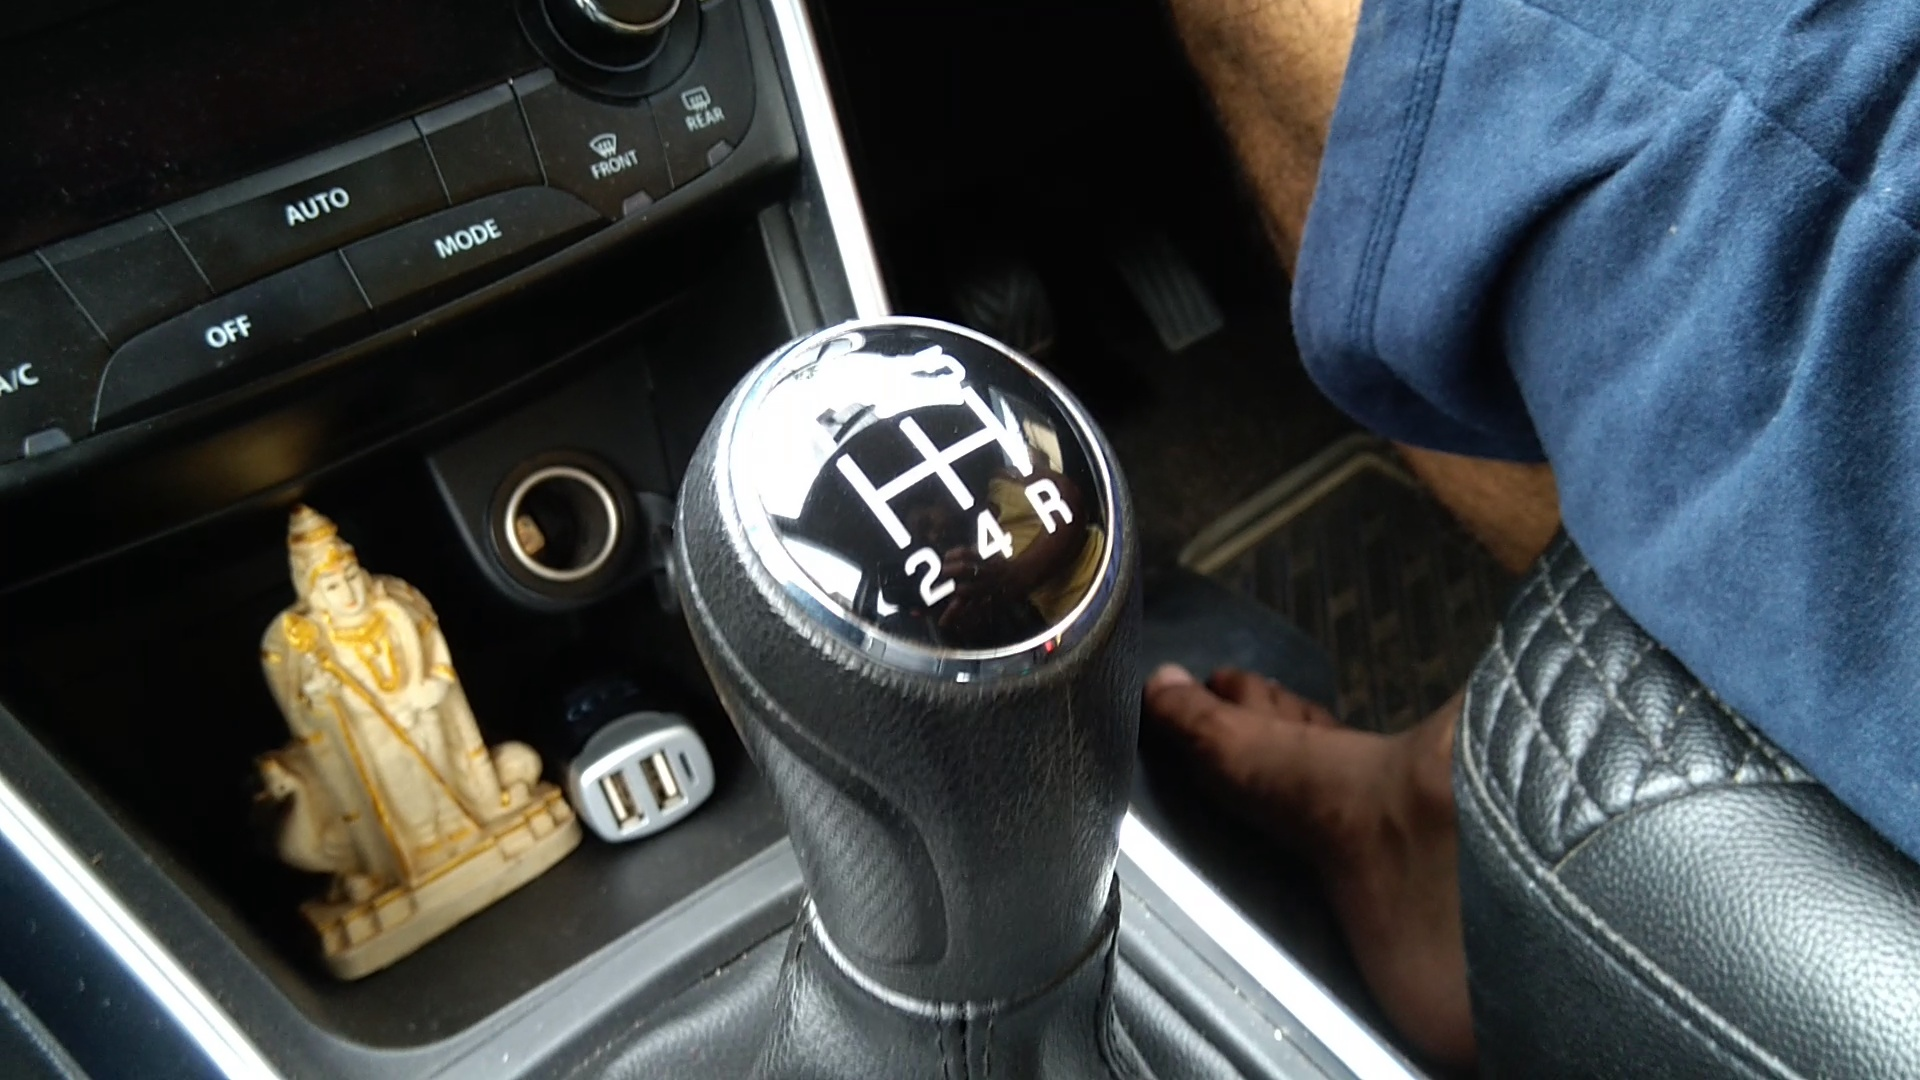manual_gear: (665, 302, 1145, 1055)
